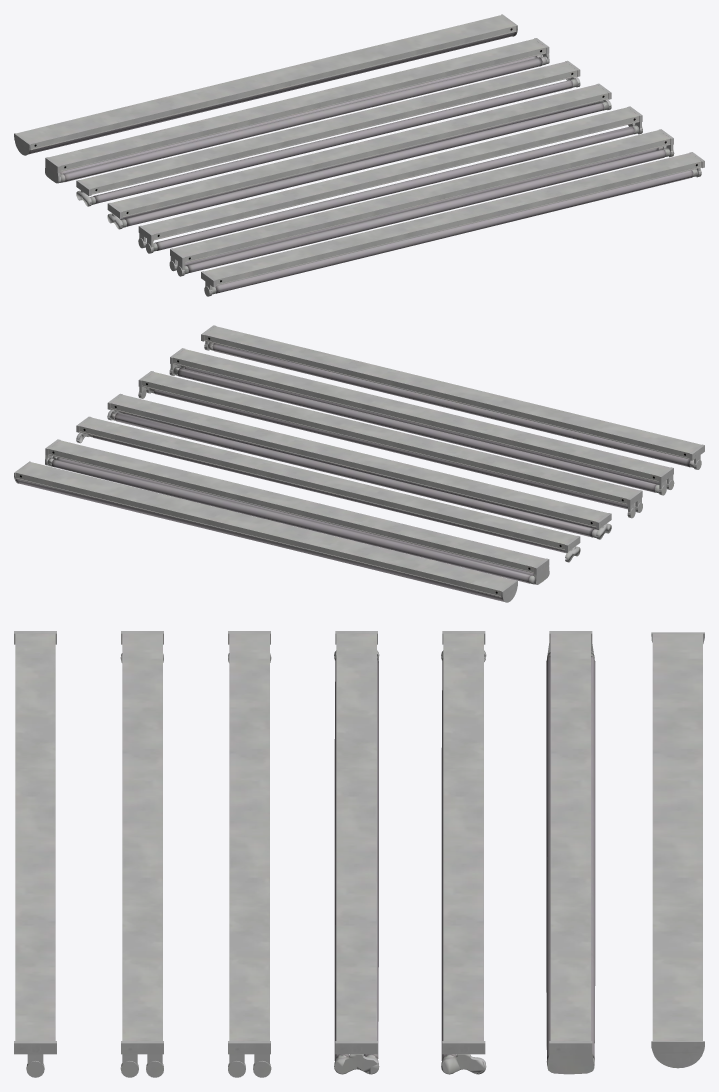
File: fluorescent_lights.glb
3 views of the same model, one above another, from view 1: azimuth 30°, elevation 25°; view 2: azimuth 150°, elevation 25°; view 3: azimuth 270°, elevation 25° (orthographic). The views are drawn at different scales.
Parts seen in each view (by area): view 1: mounted_fluorescent_lights_a; view 2: mounted_fluorescent_lights_a; view 3: mounted_fluorescent_lights_a.
Part boxes in pixels (x1,y1,x2,y2): mounted_fluorescent_lights_a: (14,14,704,296); mounted_fluorescent_lights_a: (14,325,704,602); mounted_fluorescent_lights_a: (14,631,704,1077).
Bounding box in the file's own units: 0.9122 × 0.0353 × 0.6455.
2 materials, 2 textured.
